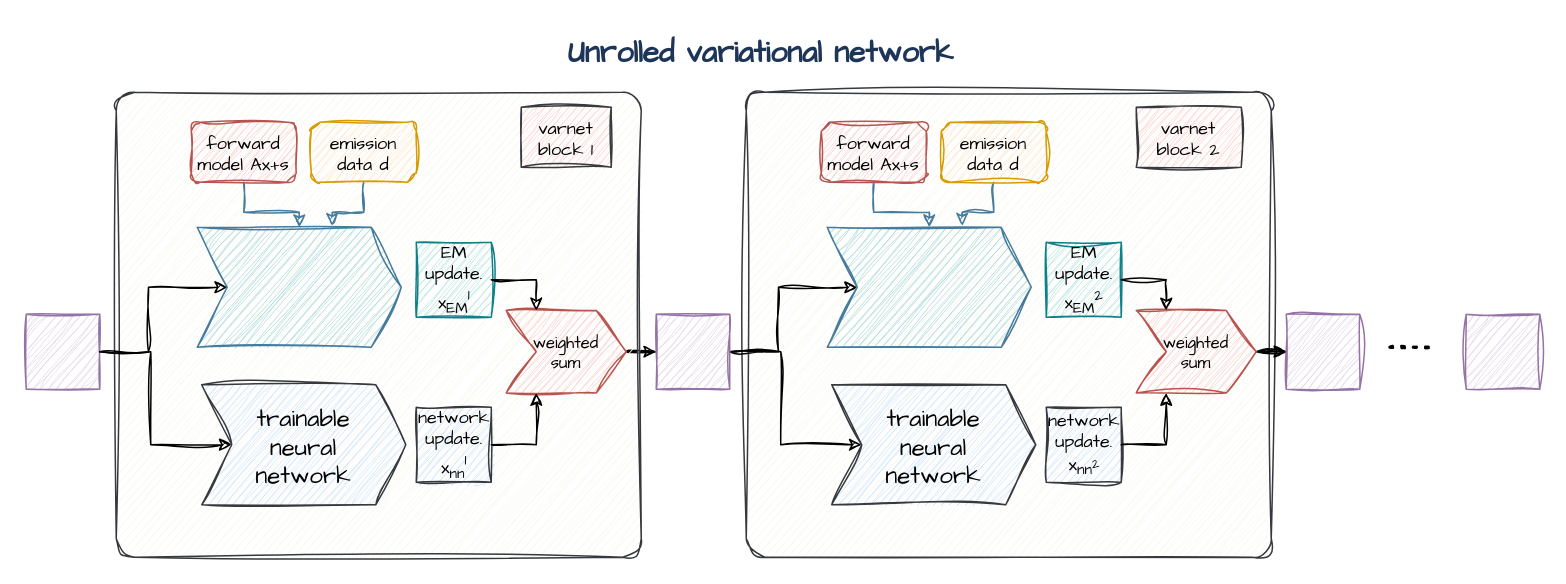
This 1566x584 diagram has some shape labels left out. The shapes that lost their labels are listed below. From the top down, each one's centre as x and y in pixels, then its label:
At (298,286): "Poisson EM block 1".
At (928,286): "Poisson EM block 2".
At (62,351): "init image x 0".
At (692,351): "image update x 1".
At (1322,351): "image update x 2".
At (1502,351): "image update x n".
